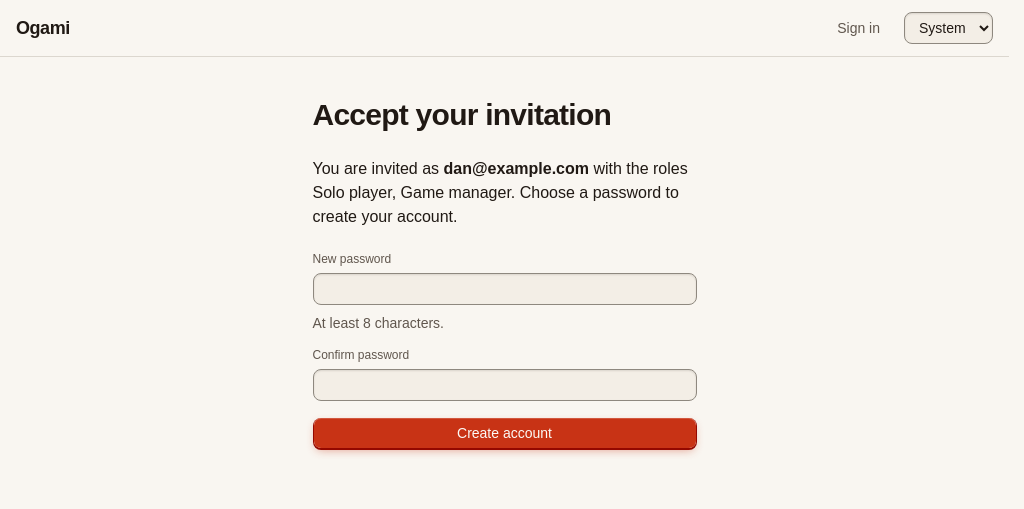
Test: AcceptInvitationPage › does not send mismatching passwords
The width and height of the screenshot is (1024, 509).
expect the heading "Accept your invitation" is shown: met, box 312,98 -> 611,131
Type "a-new-password" into the password field labelled "New password". click: (504, 289)
box: 312,273 -> 696,305
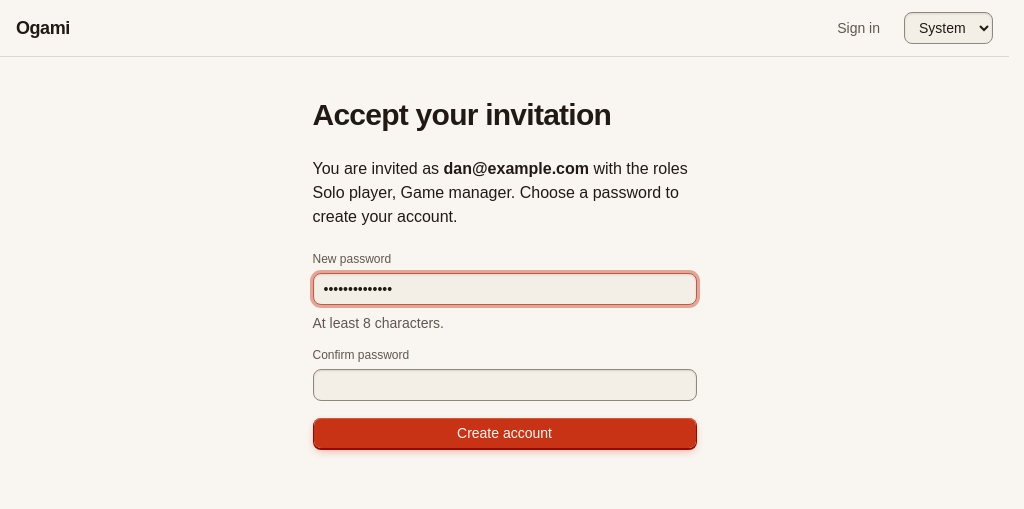
Type "another-password" into the password field labelled "Confirm password". click: (504, 385)
box: 312,369 -> 696,401
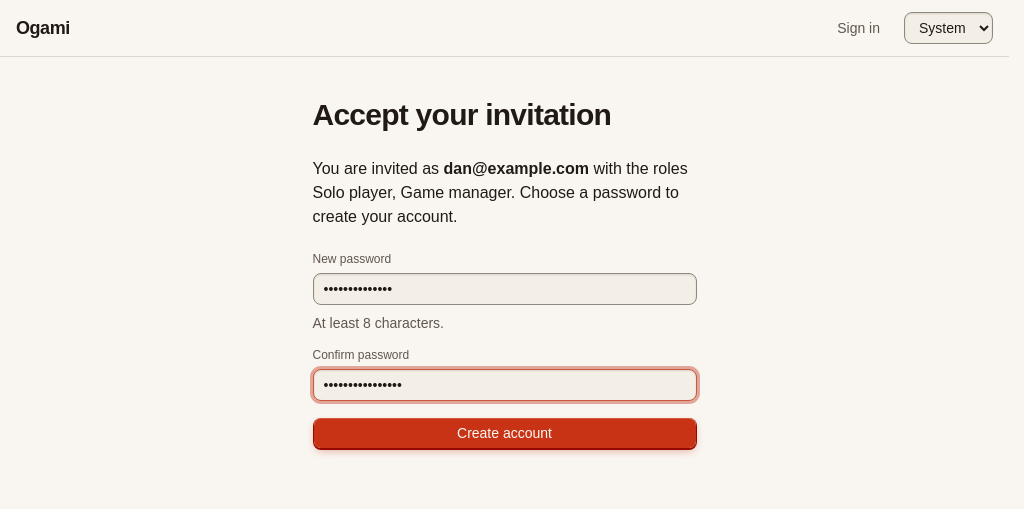
Click the button "Create account". click: (504, 433)
box: 312,417 -> 696,449
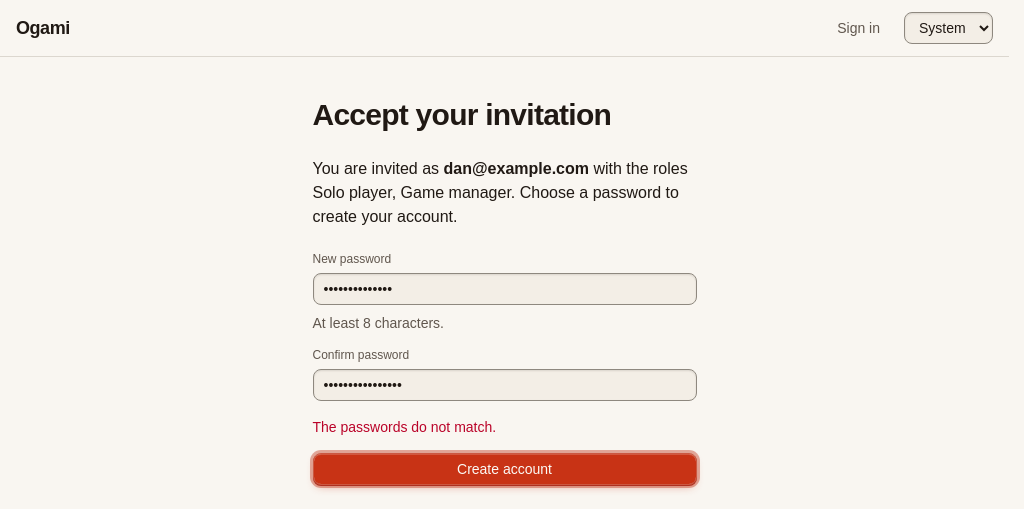
expect the message reads "The passwords do not match.": met, box 312,419 -> 496,435
